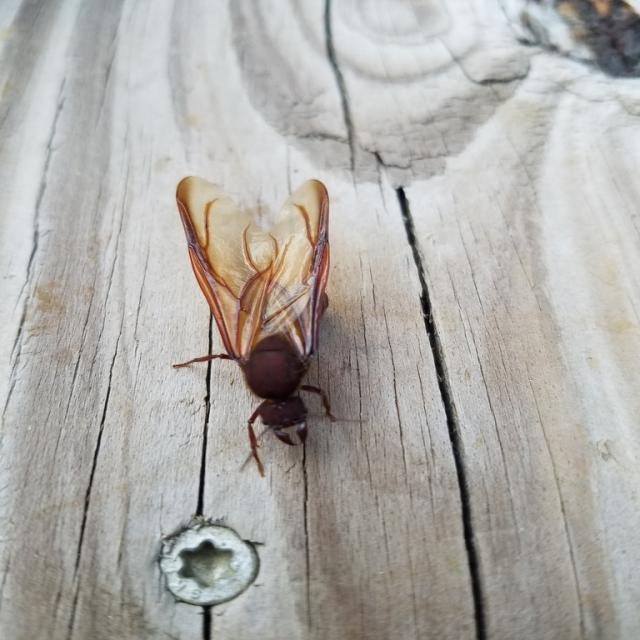Alive-Female-Alate: (172, 175, 365, 478)
